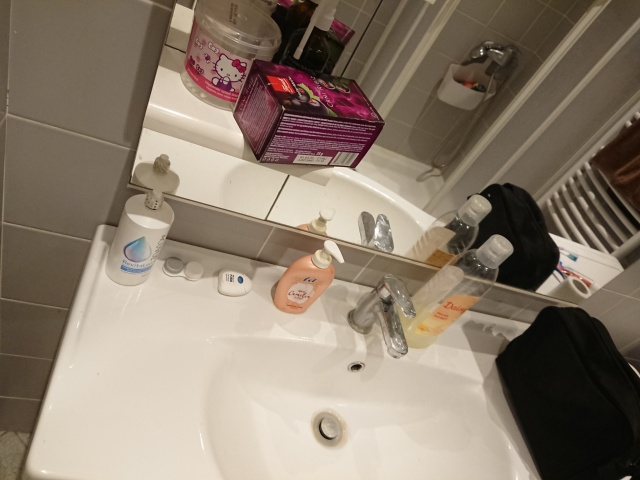Franck Black Currant Tea 60g: (230, 57, 388, 169)
